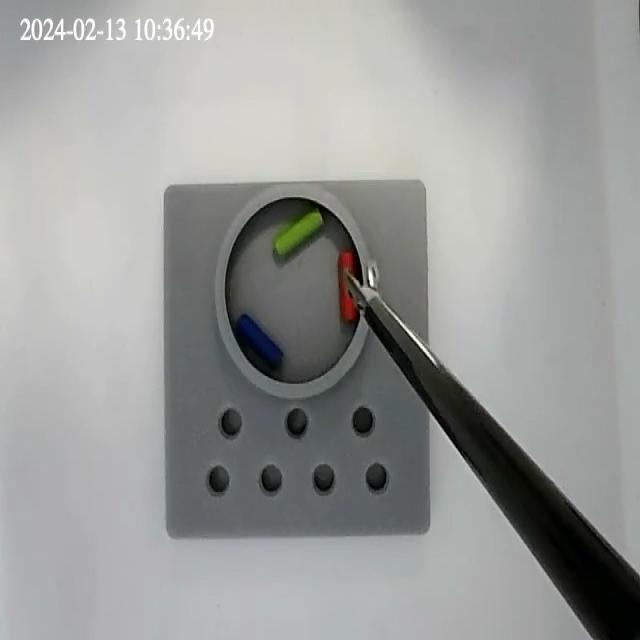EmptyHole: (214, 402, 248, 444), (362, 458, 388, 497), (204, 463, 232, 497), (310, 460, 337, 494), (350, 403, 375, 439), (284, 409, 310, 440), (260, 463, 282, 494)
